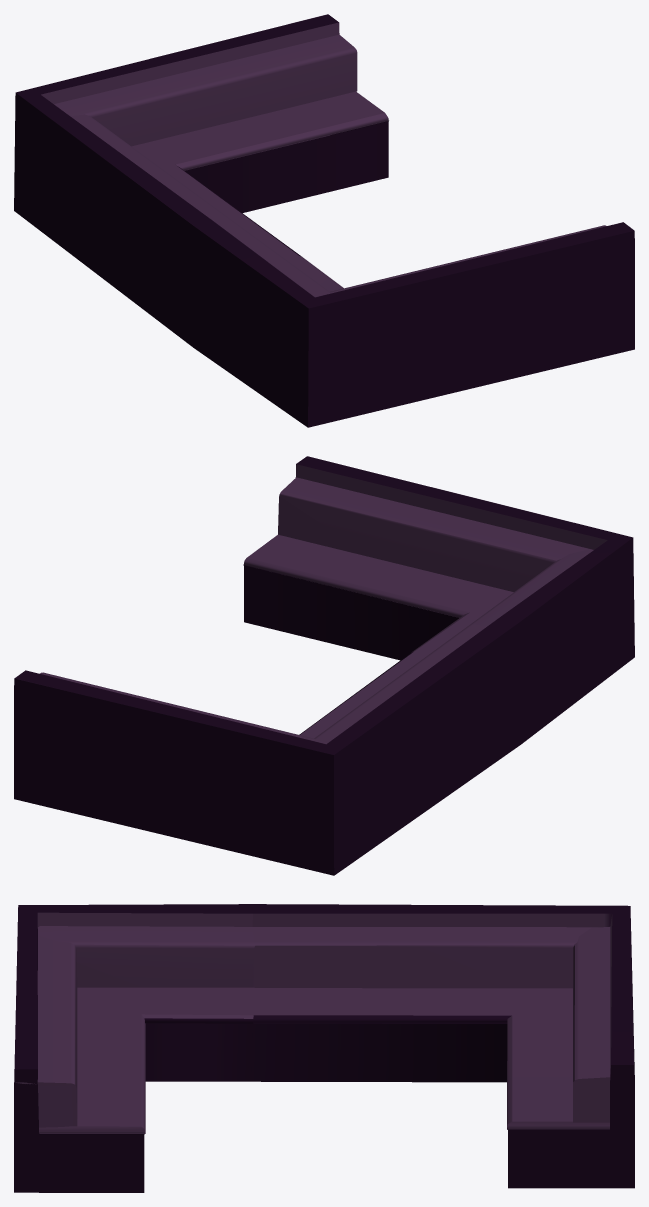
Rendered from ballroom_couch.fbx.
3 views of the same model, one above another, from view 1: azimuth 30°, elevation 25°; view 2: azimuth 150°, elevation 25°; view 3: azimuth 270°, elevation 25° (orthographic). The views are drawn at different scales.
Parts seen in each view (by area): view 1: backbone_green:backbone_green1:polySurface1; view 2: backbone_green:backbone_green1:polySurface1; view 3: backbone_green:backbone_green1:polySurface1.
Part boxes in pixels (x1,y1,x2,y2): backbone_green:backbone_green1:polySurface1: (14, 14, 634, 427); backbone_green:backbone_green1:polySurface1: (14, 456, 634, 875); backbone_green:backbone_green1:polySurface1: (14, 904, 634, 1192).
Bounding box in the file's own units: 15.43 × 5.5 × 24.42.
